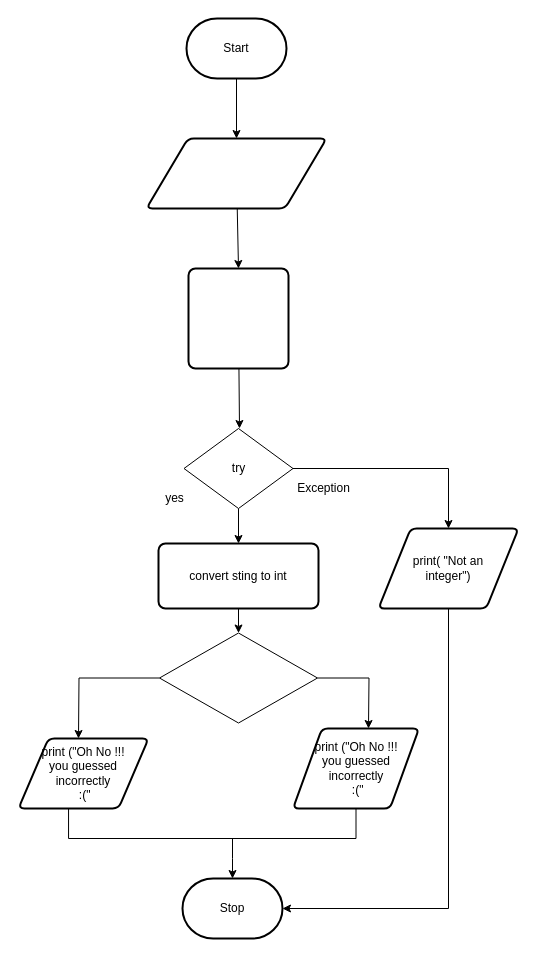
Some shapes in this 536 by 956 pixel diagram are drawn without their labels. The shapes that lost their labels are listed below. From the top down, each one's box as (x1, y1, x2, y2) in pixels, then its label:
(145, 137, 327, 209): Get number_inserted_ by_user 0-9
(187, 267, 289, 369): Create a random number
(158, 632, 318, 723): If number_inserted_ by_user = secret_number
